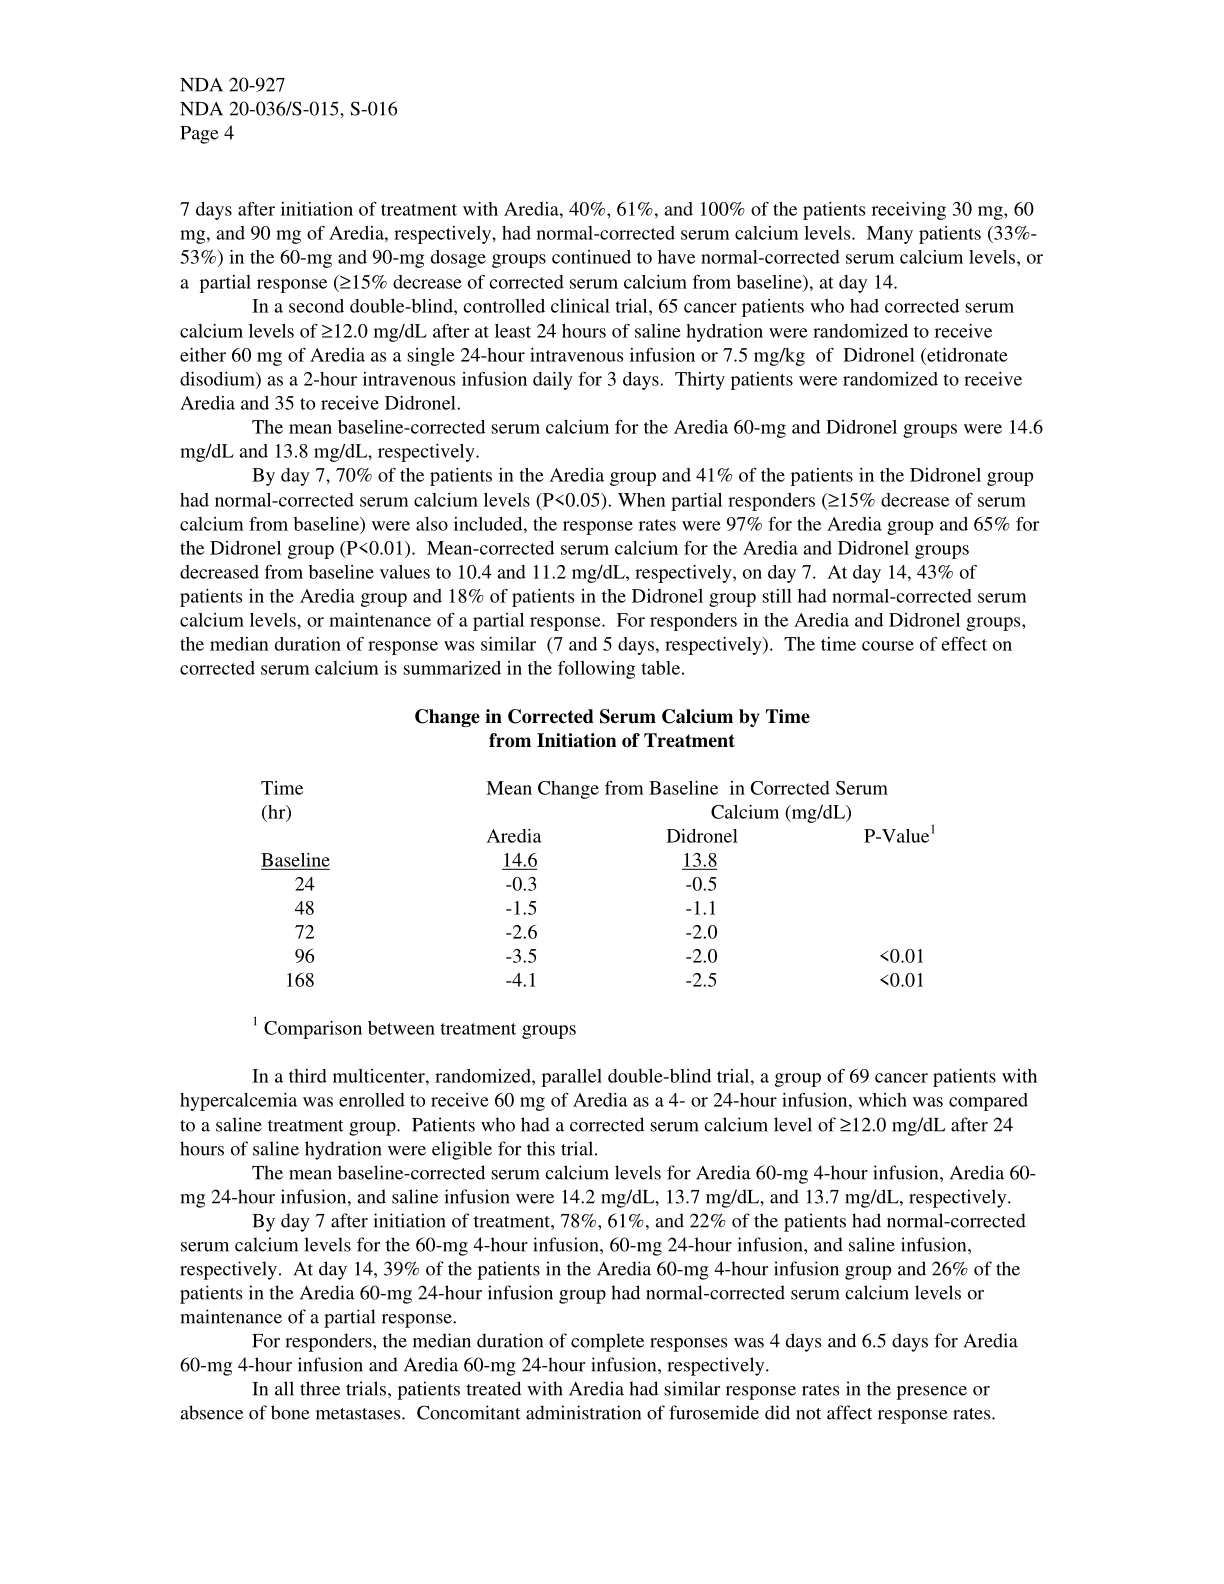nolines: (256, 777, 939, 991)
